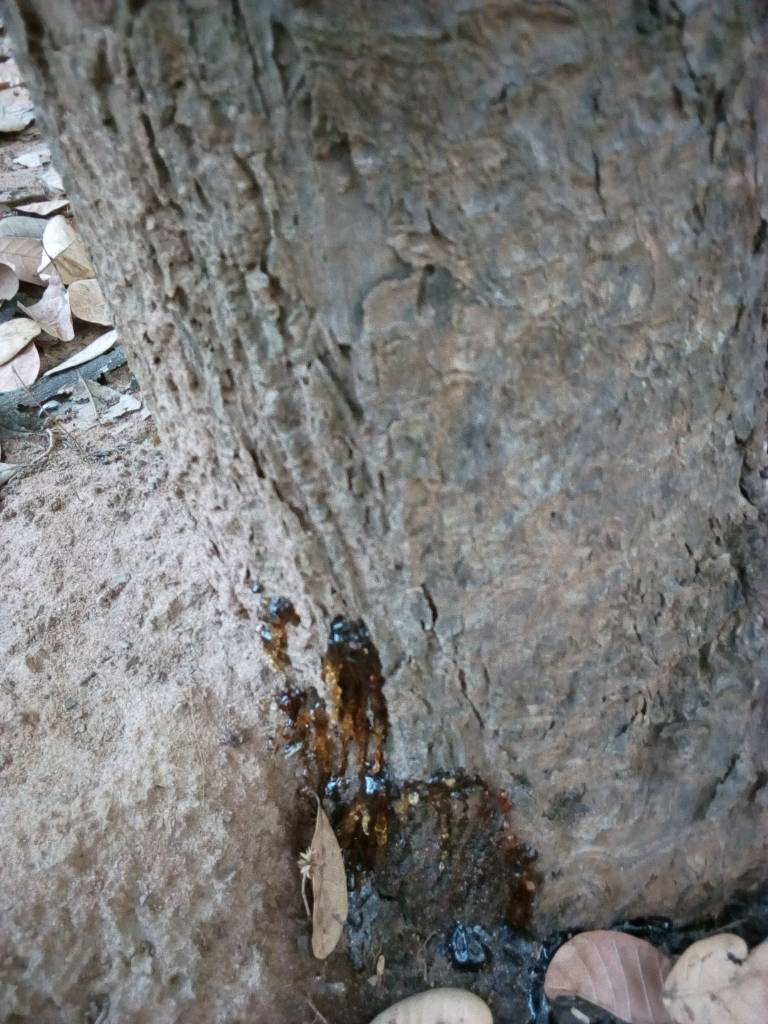Termites: (1, 458, 255, 1024)
